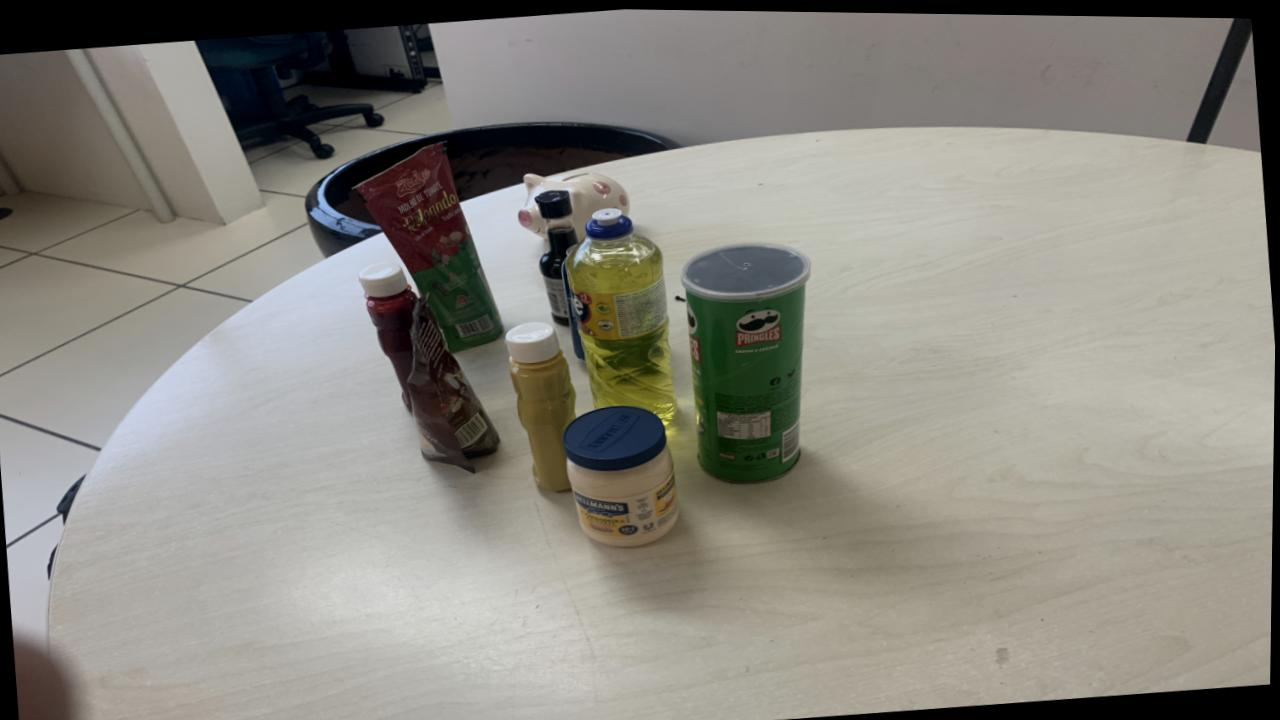Coffee-Pantry_Items: (406, 295, 501, 470)
Detergent-Cleanup_Items: (565, 206, 677, 422)
English_Sauce-Pantry_Items: (535, 187, 579, 322)
Ketchup-Pantry_Items: (360, 262, 418, 411)
Mayonnaise-Pantry_Items: (563, 404, 679, 545)
Mustard-Pantry_Items: (505, 320, 577, 490)
Pringles-Snacks: (681, 240, 811, 480)
Tomato_Sauce-Pantry_Items: (354, 142, 505, 351)
